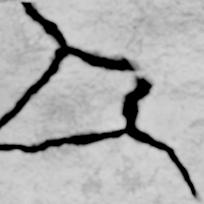brick: (0, 0, 203, 196), (0, 136, 196, 203), (0, 1, 56, 115)
crack: (0, 73, 203, 203), (0, 0, 142, 130)
